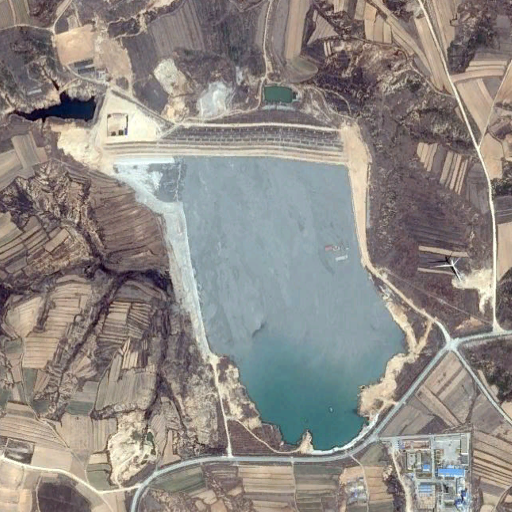tp: (103, 109, 411, 451)
